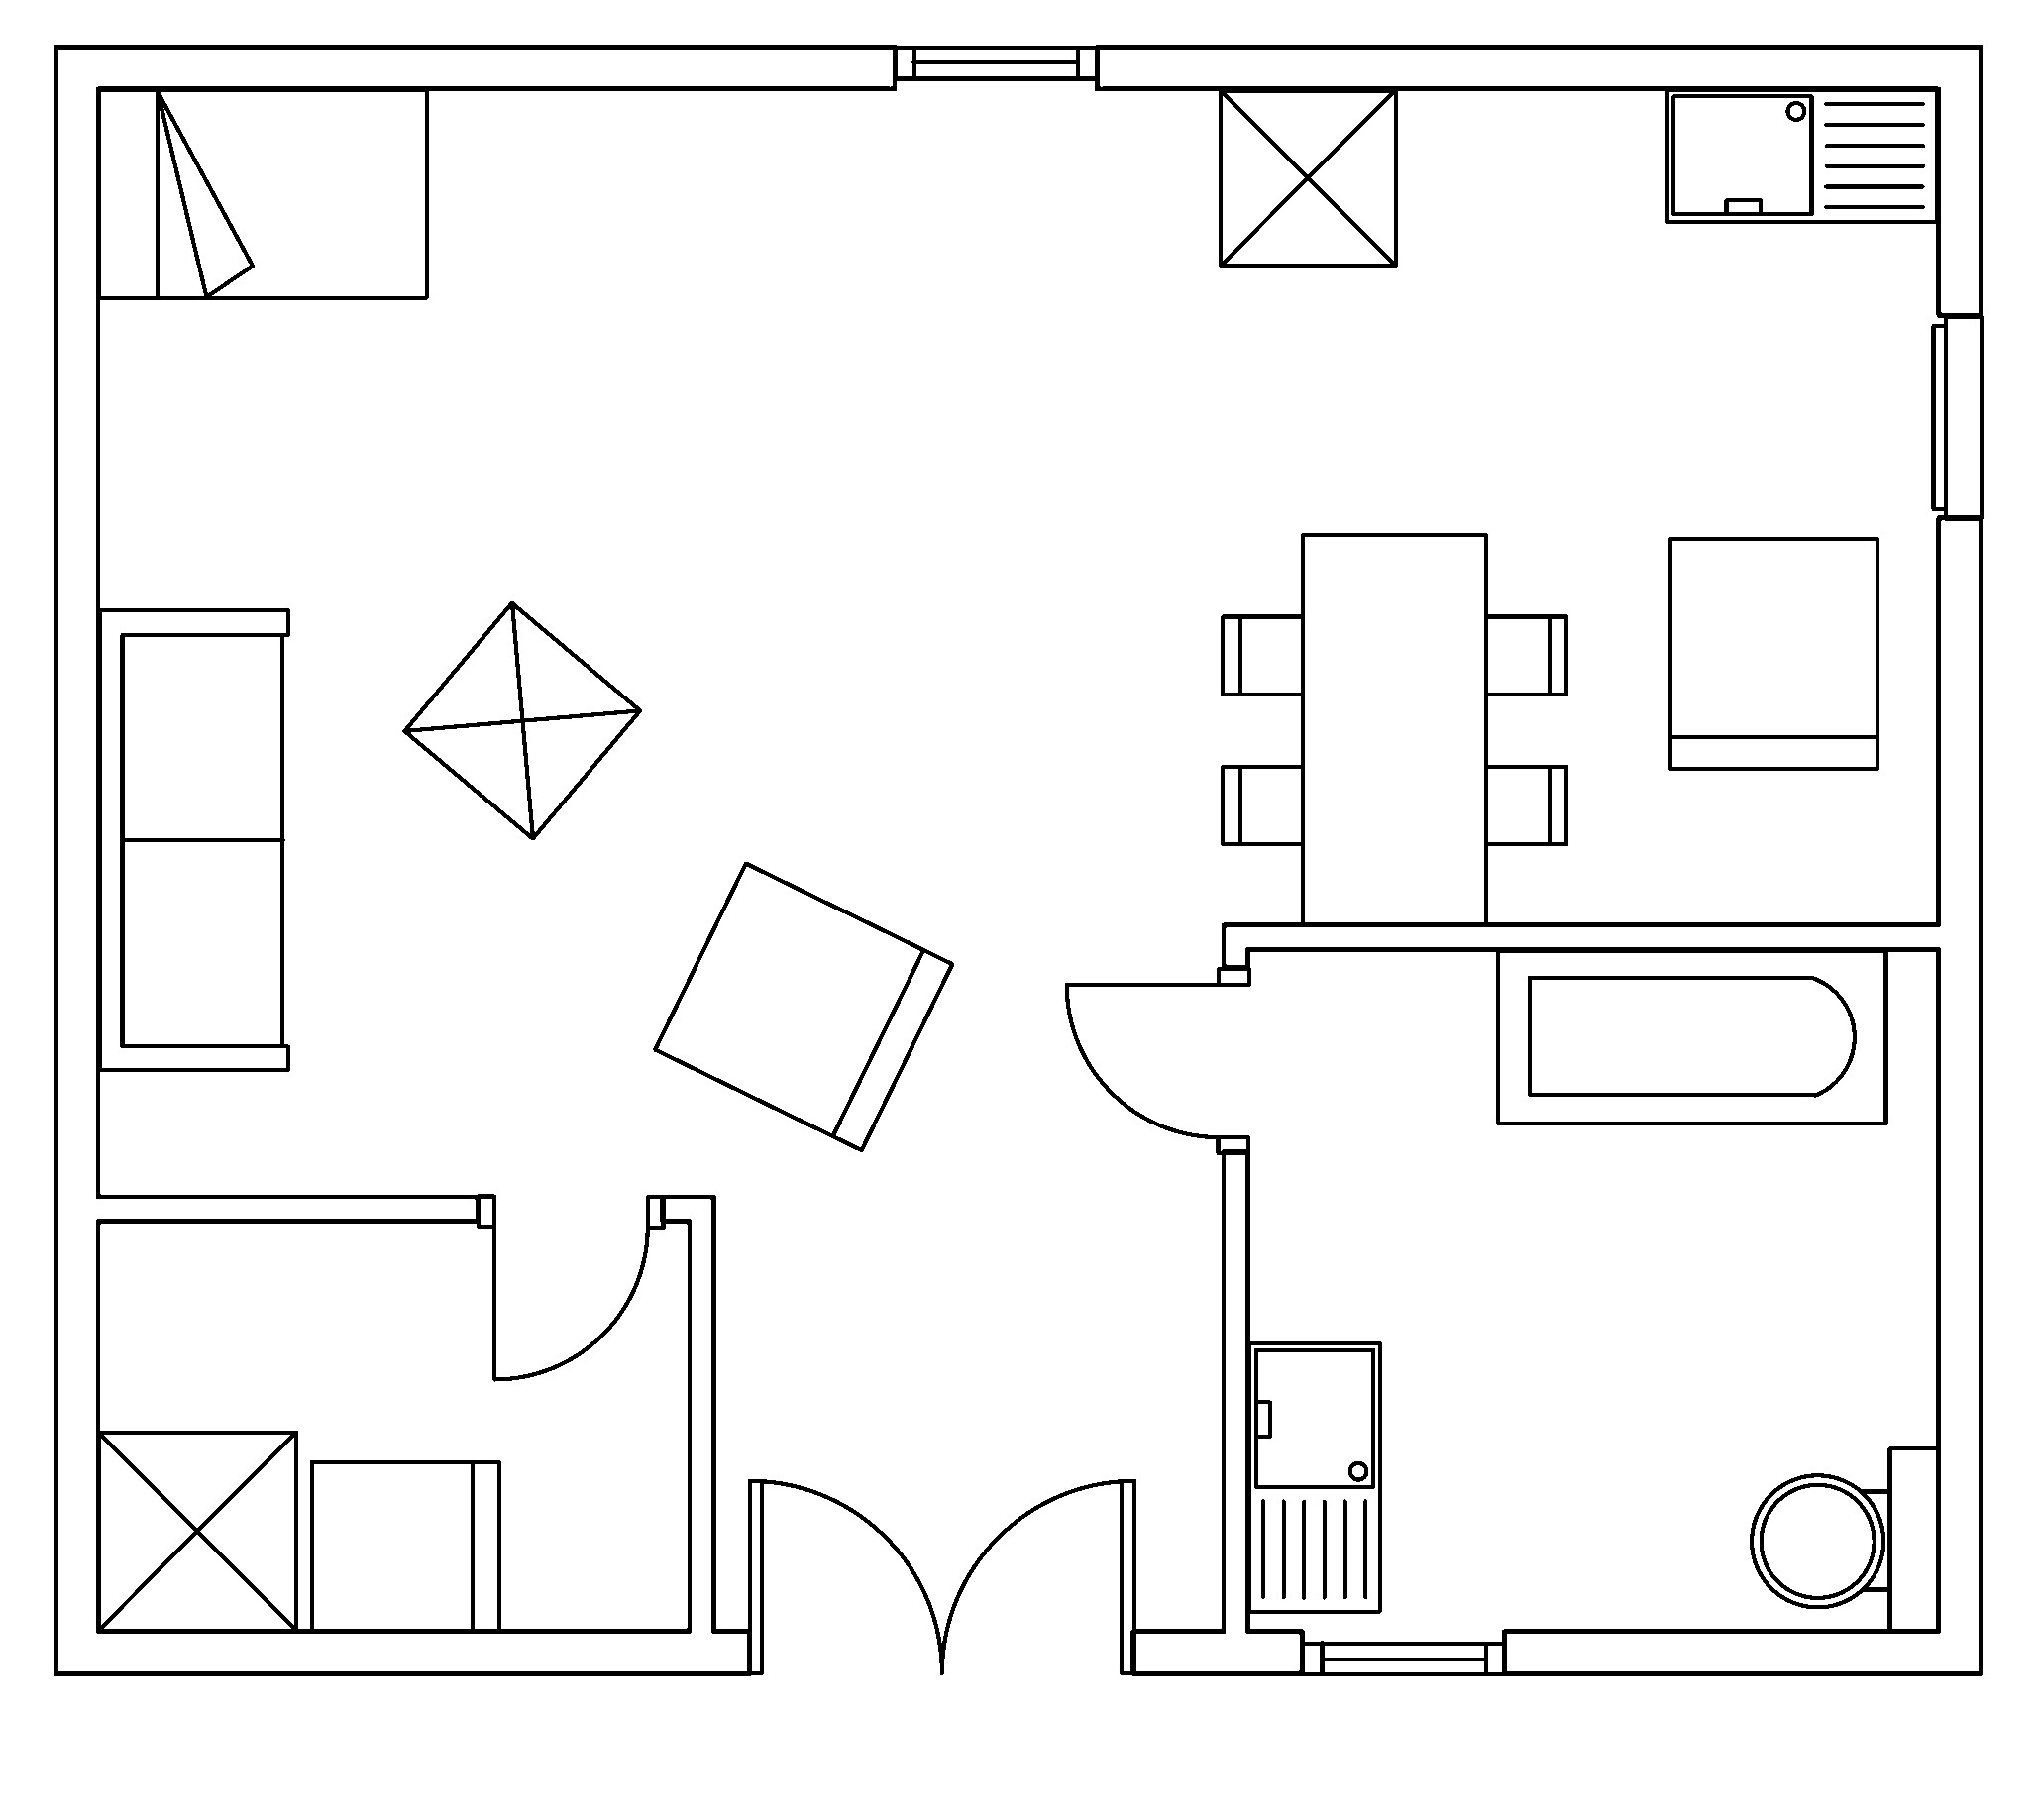bed: (95, 86, 428, 300)
coffee_table: (400, 599, 643, 841), (95, 1428, 299, 1632), (1217, 86, 1398, 267)
dining_table: (1219, 531, 1568, 926)
large_sink: (1749, 1444, 1940, 1632)
large_sofa: (97, 606, 290, 1072)
sink: (1663, 86, 1940, 223), (1245, 1339, 1382, 1614)
small_sofa: (651, 859, 954, 1152), (1666, 536, 1879, 771), (307, 1458, 500, 1632)
tub: (1494, 947, 1888, 1126)
